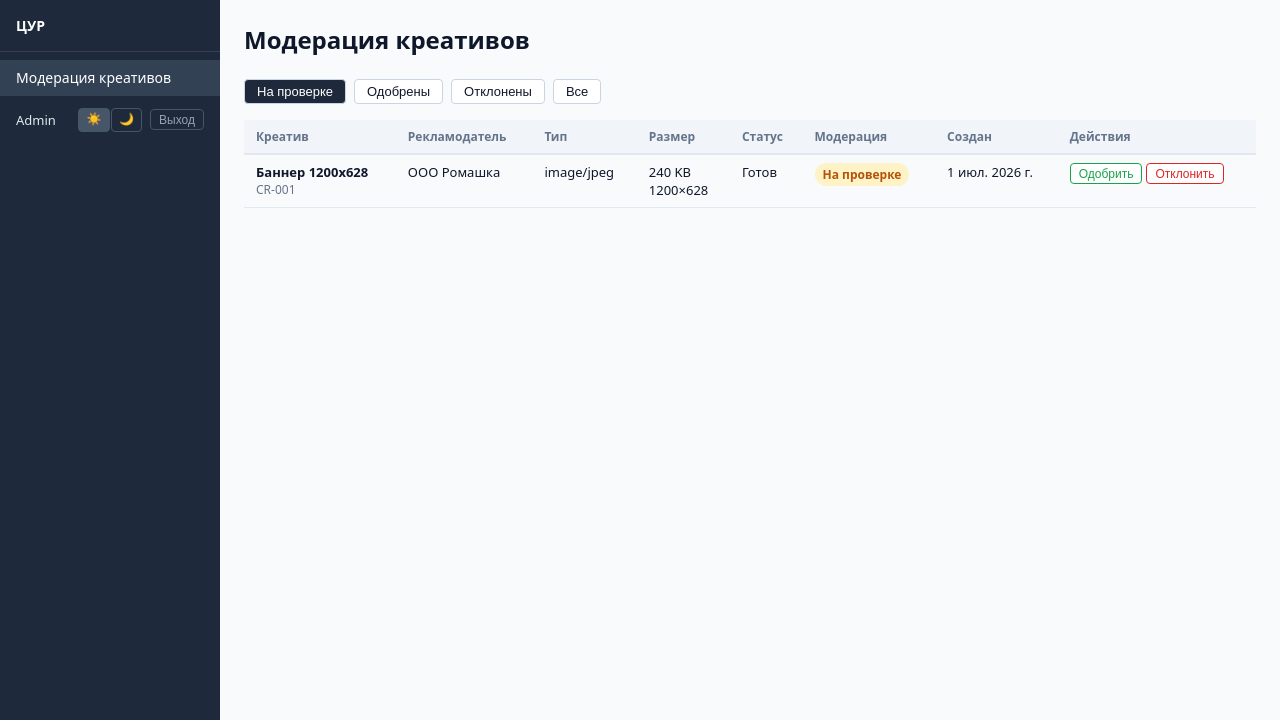
Test case: CreativeModerationPage — S-036 › cancels reject and returns to approve/reject buttons
What coordinates should you click on to do the following:
click the button with test id "moderation-reject-CR-001"
I would click on:
 (1185, 174)
Its box is [1146,163,1224,184].
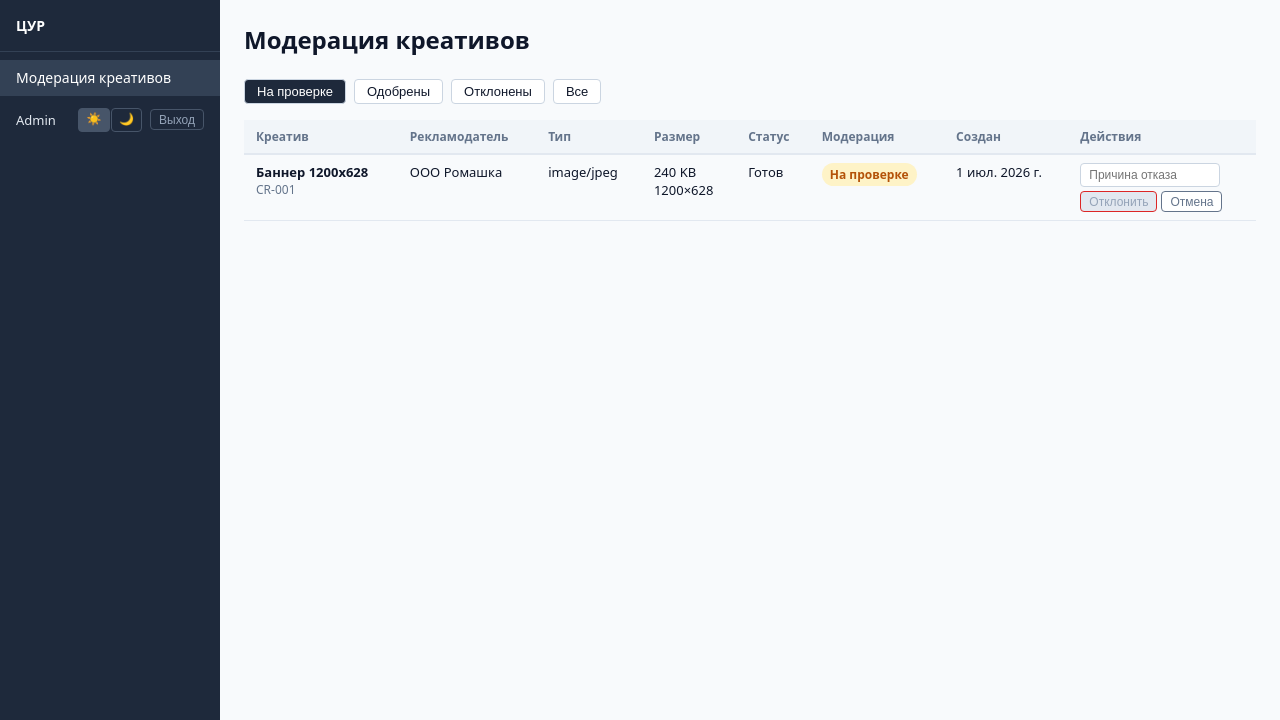
Expected: the field with test id "moderation-reject-reason-CR-001" is shown, [1080,163,1220,187]
Note: Click cancel
What coordinates should you click on to do the following:
click the button with test id "moderation-reject-cancel-CR-001"
I would click on:
 (1192, 202)
Its box is [1161,191,1222,212].
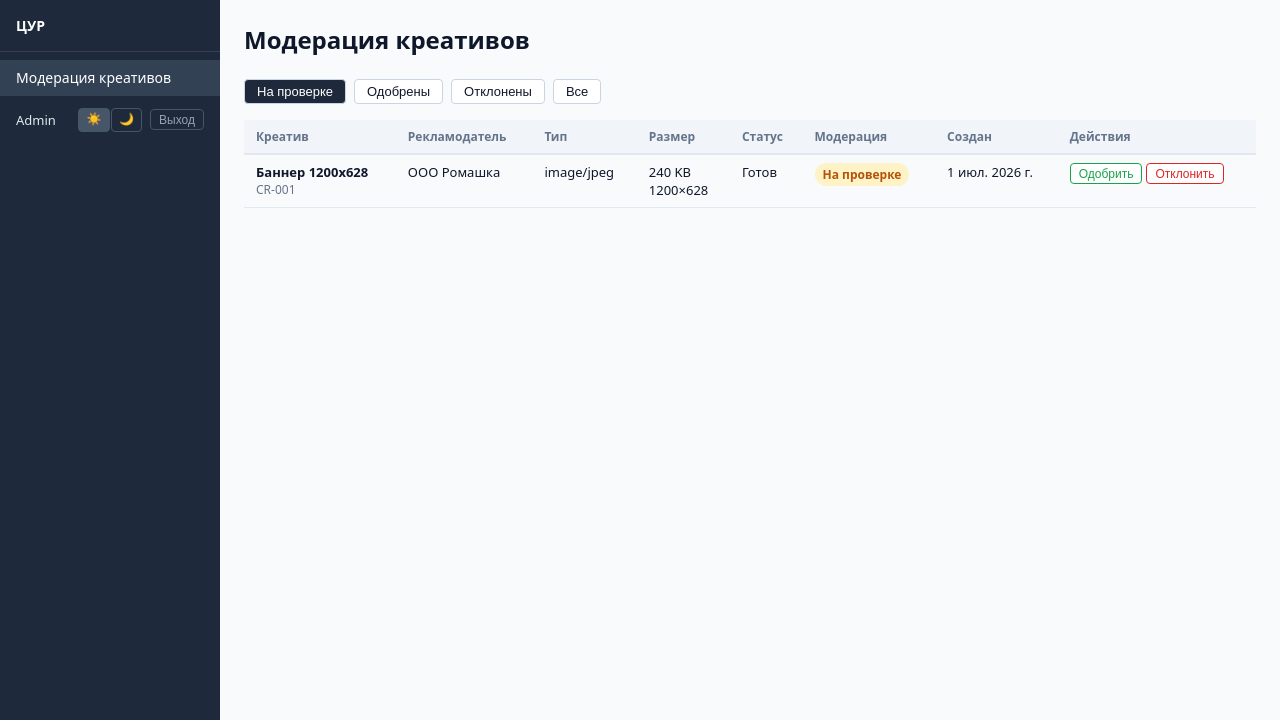
Expected: the button with test id "moderation-approve-CR-001" is shown, [1070,163,1142,184]
Expected: the field with test id "moderation-reject-reason-CR-001" is gone
